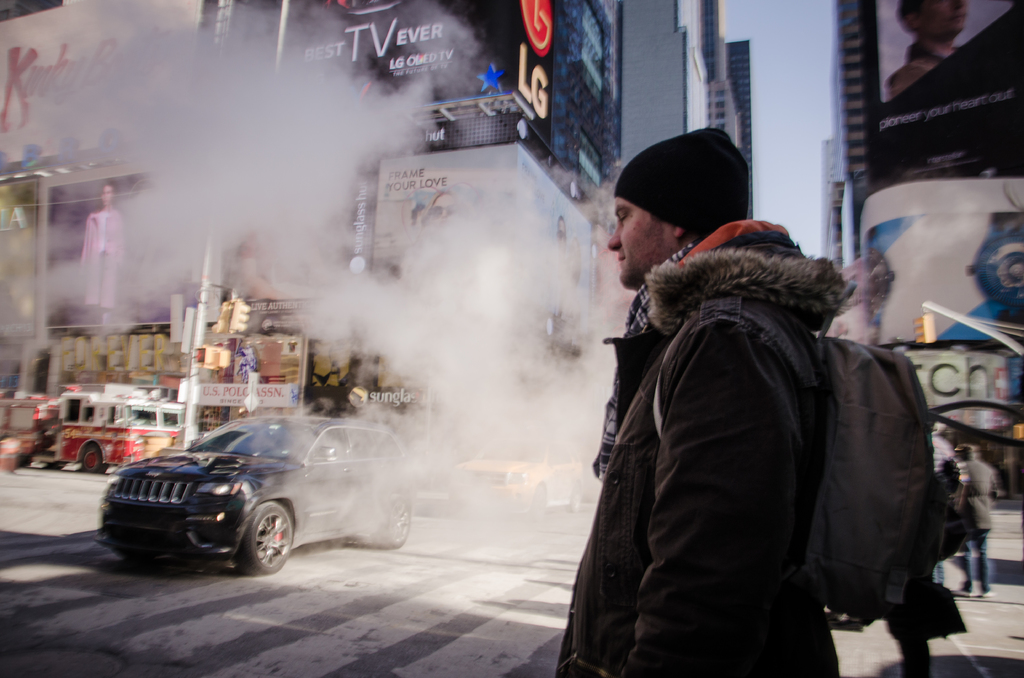Car: (89, 413, 415, 580)
